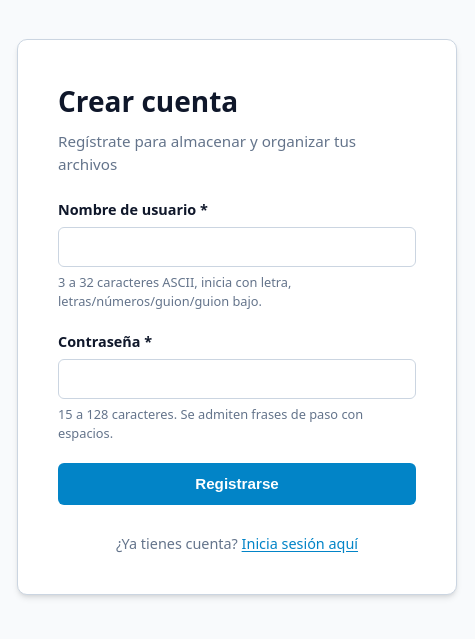
Scenario: Frontend & Accesibilidad (a11y) - Módulo de Autenticación (O04) › Formulario de Registro (RegisterPage) › valida cliente de forma inmediata rechazando nombres de usuario que no inicien con letra
Type "123usuario" into the field labelled "Nombre de usuario *".
click(237, 247); type("123usuario")  # box 58,226 -> 416,267
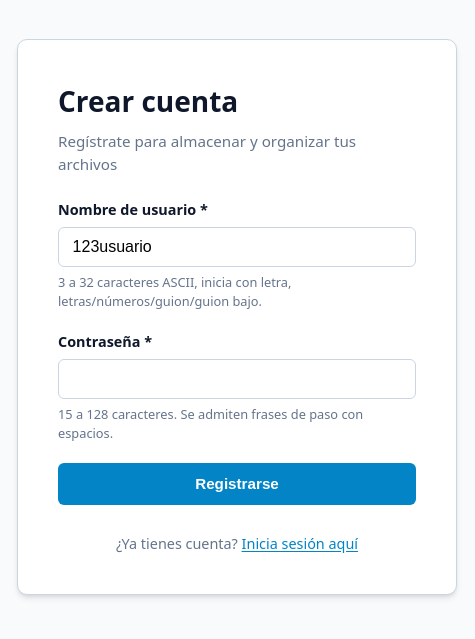
Type "frase de paso valida 123" into the password field labelled "Contraseña *".
click(237, 379); type("frase de paso valida 123")  # box 58,358 -> 416,399
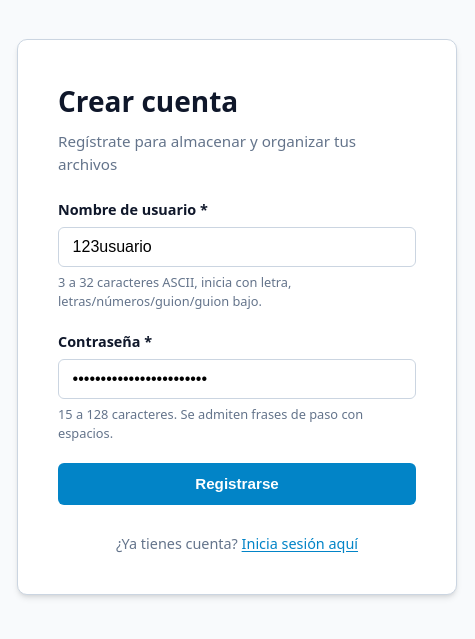
Click the button "Registrarse".
click(237, 484)  # box 58,463 -> 416,505
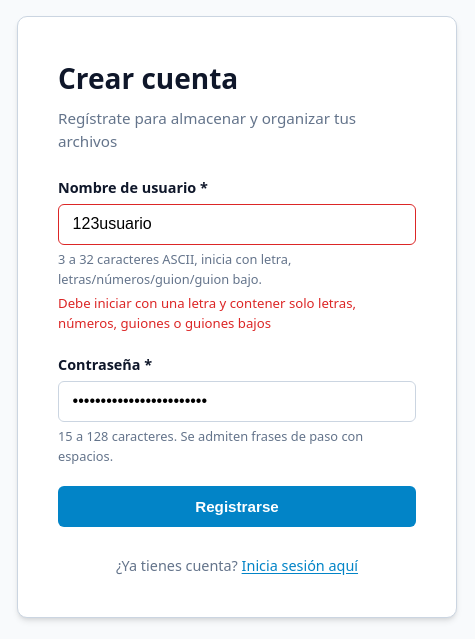
Now the text "Debe iniciar con una letra" is shown, box 58,294 -> 356,332
